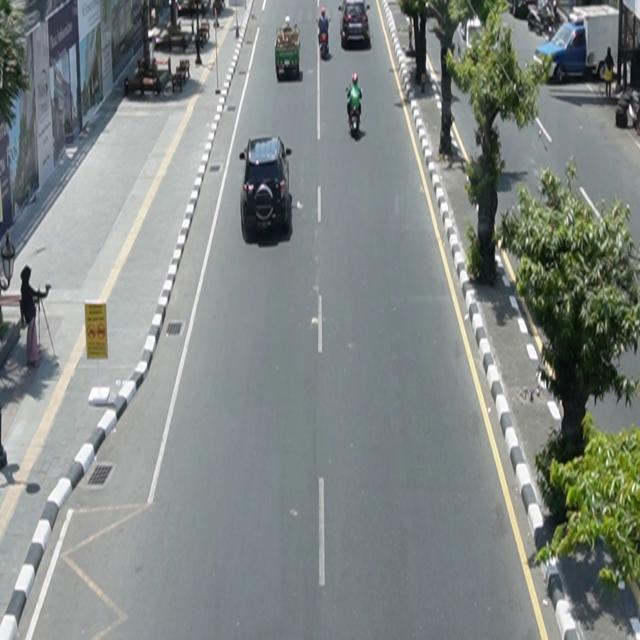car: (240, 136, 293, 236), (339, 1, 371, 49)
